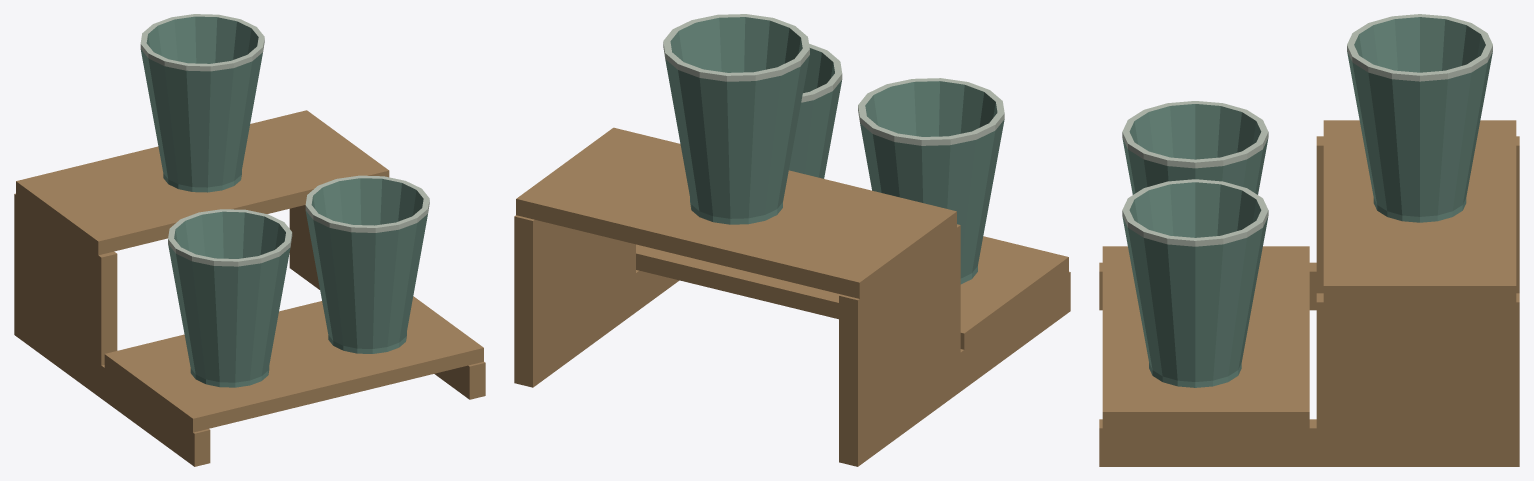
The picture shows the model from 3 angles, left to right: view 1: azimuth 30°, elevation 25°; view 2: azimuth 150°, elevation 25°; view 3: azimuth 270°, elevation 25°; orthographic projection. The views are drawn at different scales.
Visible parts, largest first — view 1: Upper_BroadBucketShelf, Lower_BroadBucketShelf, Left_ContinuousSteppedCheek, FrontLeft_DeepTaperedBucket, RearRaised_DeepTaperedBucket, FrontRight_DeepTaperedBucket, Right_ContinuousSteppedCheek; view 2: Upper_BroadBucketShelf, Left_ContinuousSteppedCheek, RearRaised_DeepTaperedBucket, FrontLeft_DeepTaperedBucket, Right_ContinuousSteppedCheek, Lower_BroadBucketShelf, FrontRight_DeepTaperedBucket; view 3: Right_ContinuousSteppedCheek, Upper_BroadBucketShelf, RearRaised_DeepTaperedBucket, FrontRight_DeepTaperedBucket, Lower_BroadBucketShelf, FrontLeft_DeepTaperedBucket, Left_ContinuousSteppedCheek.
Boxes of the visible parts, left/top/right/bottom form: Upper_BroadBucketShelf: left=16, top=110, right=389, bottom=255; Lower_BroadBucketShelf: left=104, top=296, right=483, bottom=432; Left_ContinuousSteppedCheek: left=14, top=193, right=210, bottom=466; FrontLeft_DeepTaperedBucket: left=168, top=209, right=292, bottom=387; RearRaised_DeepTaperedBucket: left=140, top=14, right=264, bottom=192; FrontRight_DeepTaperedBucket: left=305, top=175, right=429, bottom=353; Right_ContinuousSteppedCheek: left=289, top=205, right=485, bottom=399; Upper_BroadBucketShelf: left=516, top=127, right=956, bottom=298; Left_ContinuousSteppedCheek: left=839, top=224, right=1070, bottom=466; RearRaised_DeepTaperedBucket: left=663, top=14, right=809, bottom=224; FrontLeft_DeepTaperedBucket: left=858, top=78, right=1004, bottom=284; Right_ContinuousSteppedCheek: left=514, top=215, right=679, bottom=387; Lower_BroadBucketShelf: left=636, top=236, right=1068, bottom=349; FrontRight_DeepTaperedBucket: left=789, top=43, right=842, bottom=178; Right_ContinuousSteppedCheek: left=1099, top=293, right=1519, bottom=466; Upper_BroadBucketShelf: left=1323, top=120, right=1516, bottom=302; RearRaised_DeepTaperedBucket: left=1347, top=14, right=1492, bottom=222; FrontRight_DeepTaperedBucket: left=1122, top=179, right=1268, bottom=387; Lower_BroadBucketShelf: left=1102, top=246, right=1309, bottom=428; FrontLeft_DeepTaperedBucket: left=1122, top=101, right=1268, bottom=194; Left_ContinuousSteppedCheek: left=1099, top=136, right=1519, bottom=310.
Bounding box in the file's own units: 1.1 × 1.05 × 1.18.
